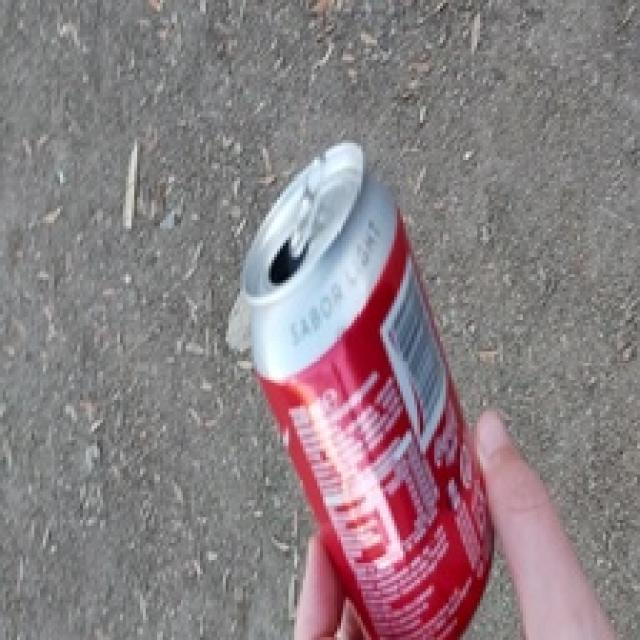recyclable: (240, 137, 494, 640)
